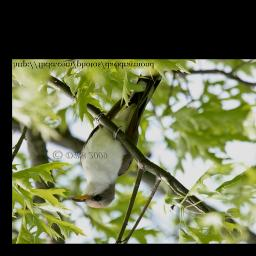Cuckoo: (70, 70, 162, 210)
